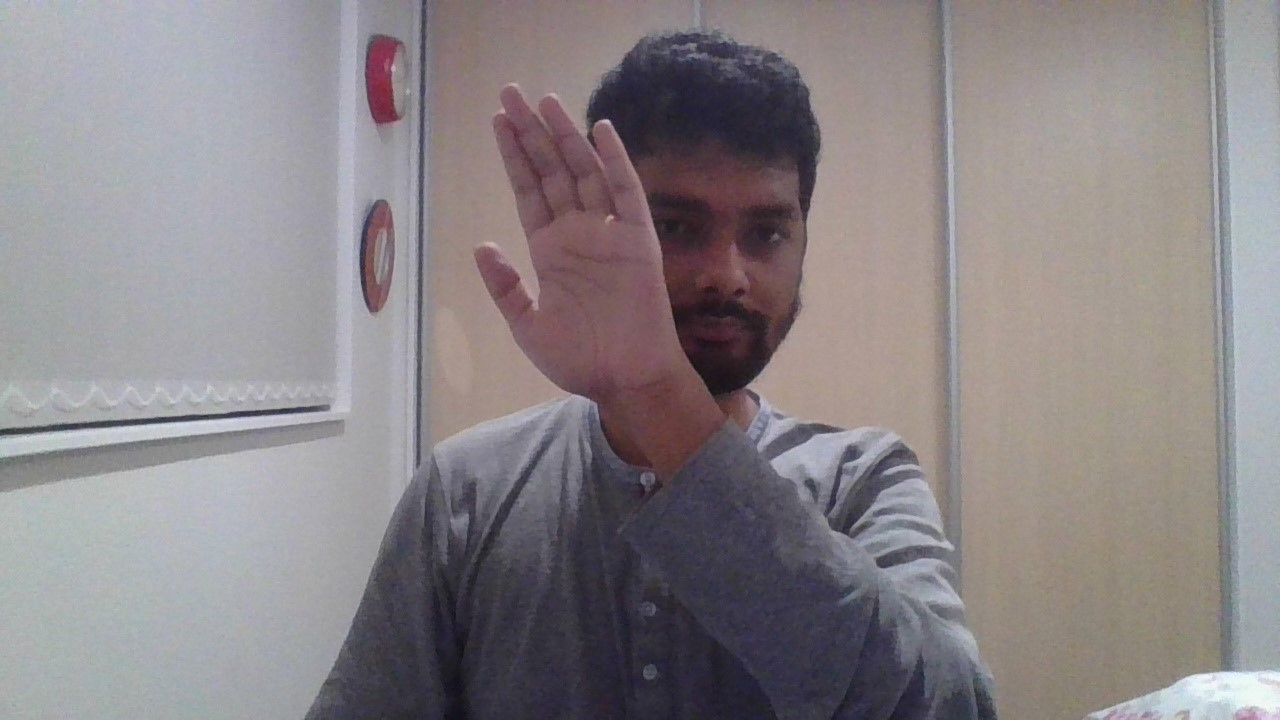hello: (472, 83, 672, 396)
